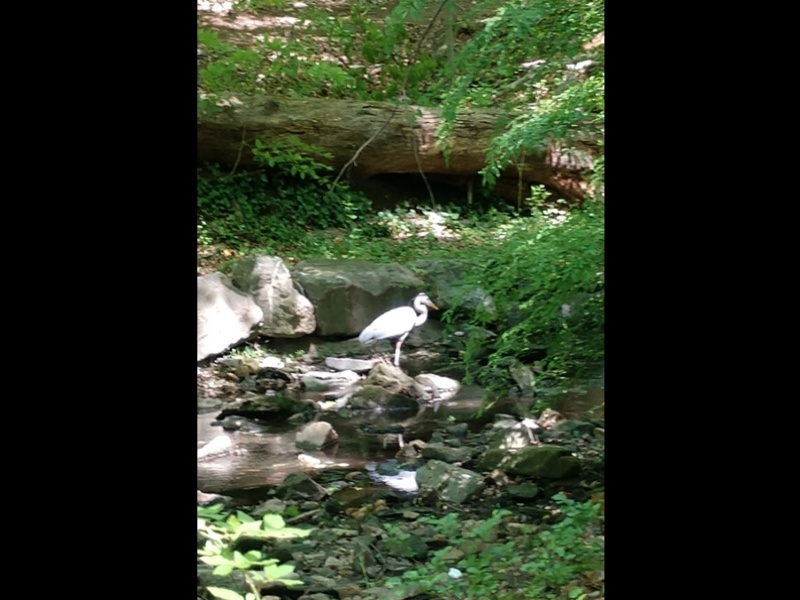heron: (356, 291, 438, 370)
